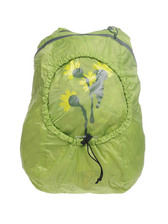bag: (19, 22, 149, 195)
